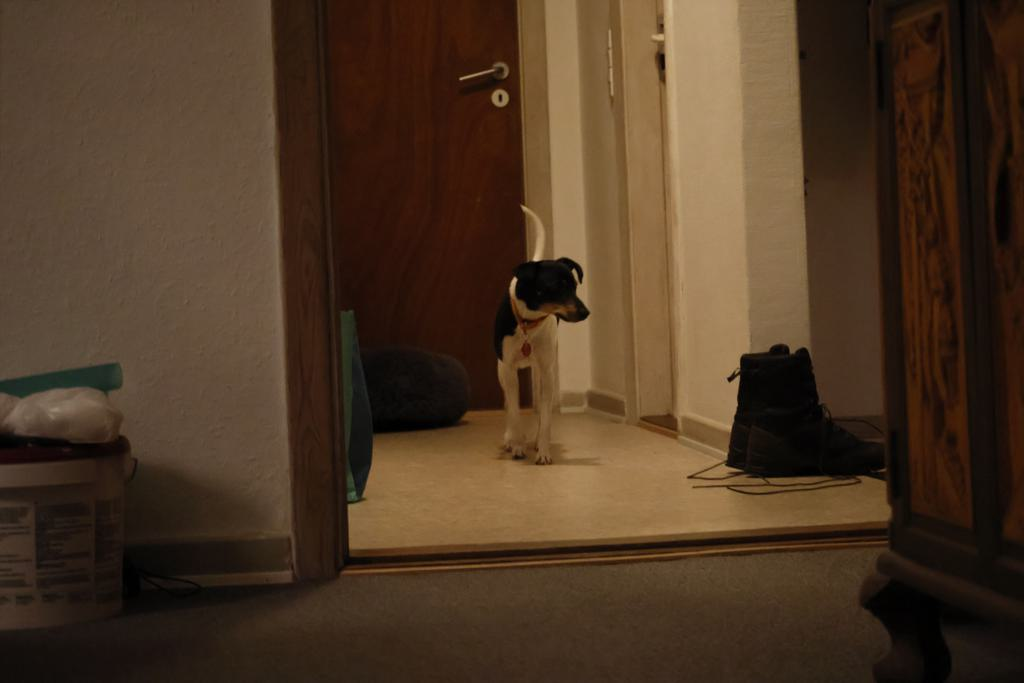Dog: (477, 193, 595, 470)
